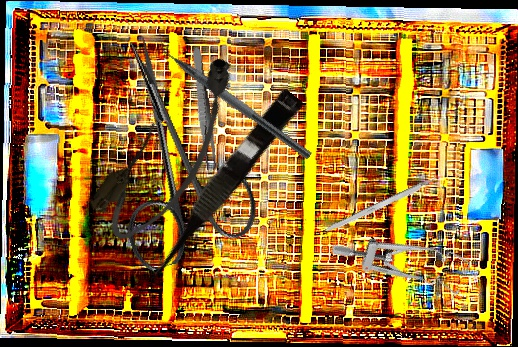Cannula: (81, 46, 265, 254)
Chopper: (146, 29, 320, 161)
Dressing Forceps: (188, 46, 219, 173)
Iris Scissors: (71, 20, 266, 275)
Micro Scissor: (135, 83, 305, 289)
Scalpel Handle: (320, 175, 440, 237)
Speculum: (329, 202, 475, 315)
